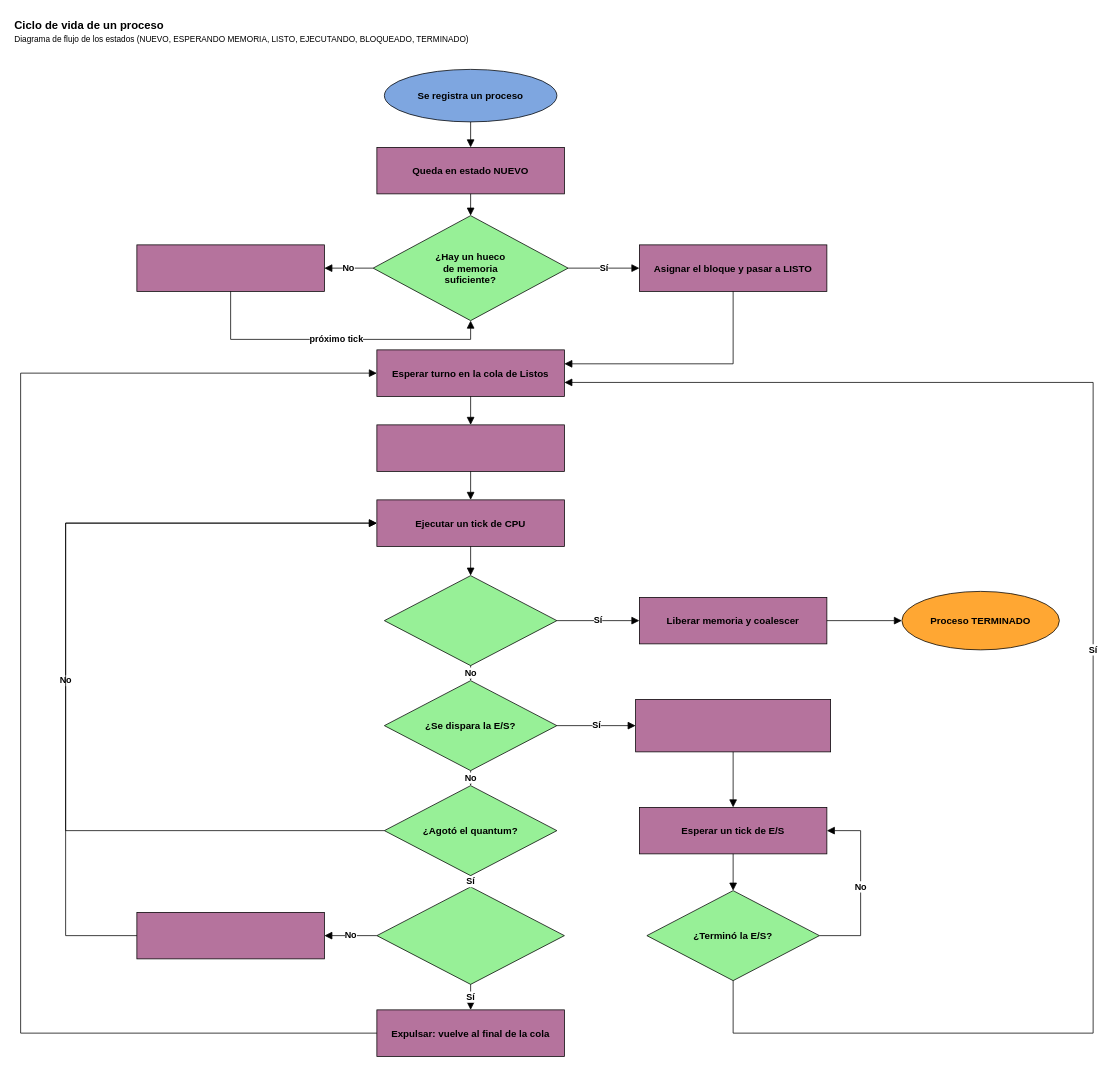
Image size: 1114x1070. Some labels were removed from this diagram. The shapes that lost their labels are listed below. From the top down, each one's box as (x1, y1, x2, y2) in pixels, then its label:
(136, 244, 324, 291): Esperar memoria (ESPERANDO MEMORIA)
(376, 424, 564, 471): Despachar: pasa a EJECUTANDO
(384, 575, 557, 666): ¿Terminó su CPU?
(635, 699, 831, 752): Bloquear: libera la CPU y conserva la memoria
(136, 912, 324, 959): Renovar el quantum
(376, 886, 564, 984): ¿Hay otros procesos Listos?
